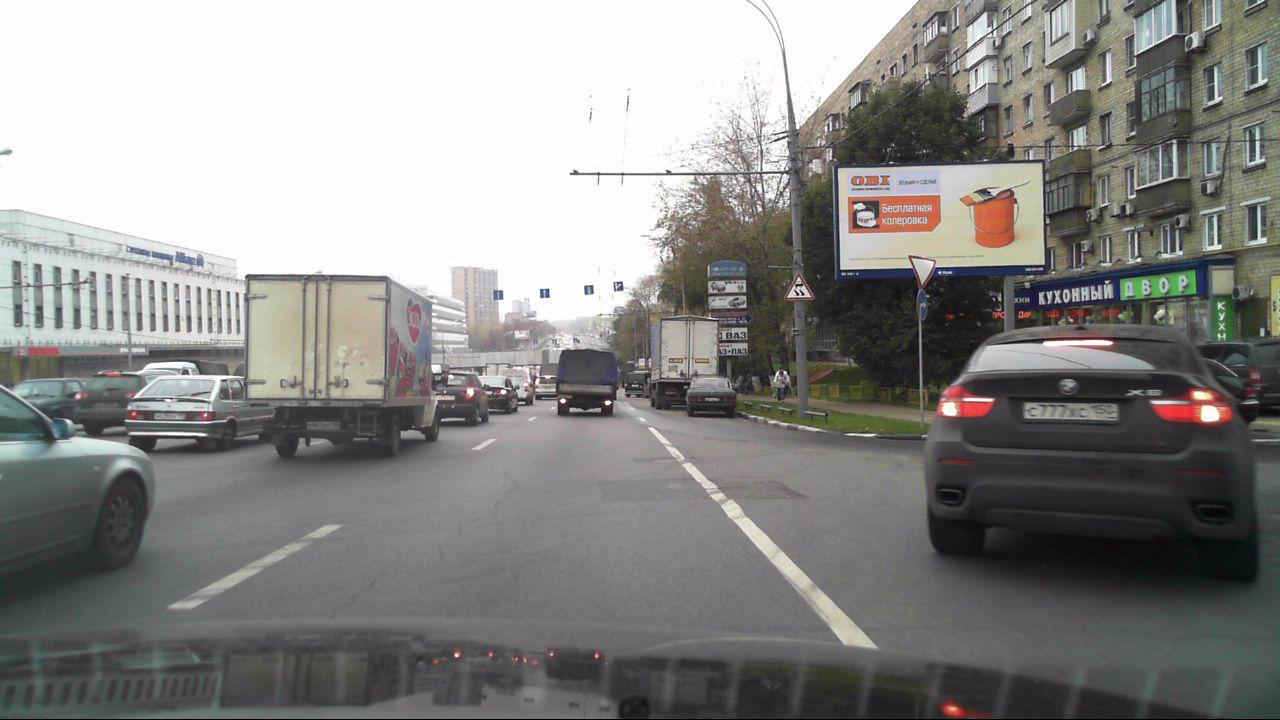1_15: (785, 273, 815, 301)
2_4: (908, 254, 936, 285)
4_1_2: (913, 289, 930, 322)
5_15_2: (612, 280, 624, 292), (583, 283, 594, 296), (494, 289, 504, 300), (540, 288, 550, 299)
